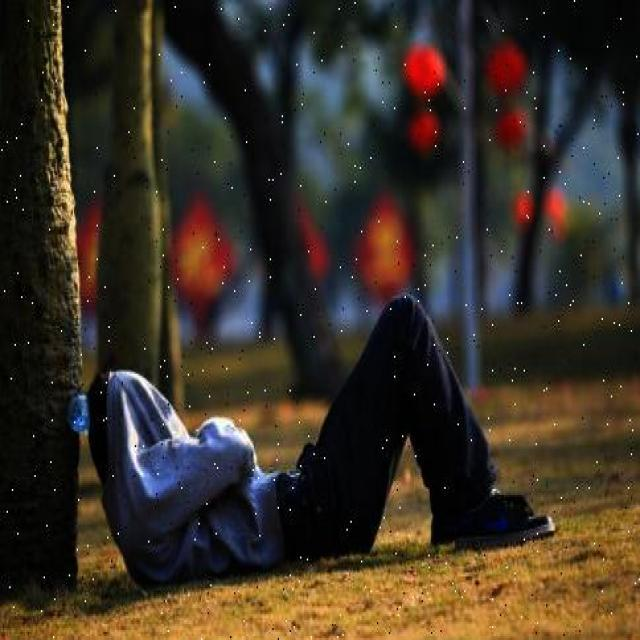fall: (81, 328, 554, 548)
